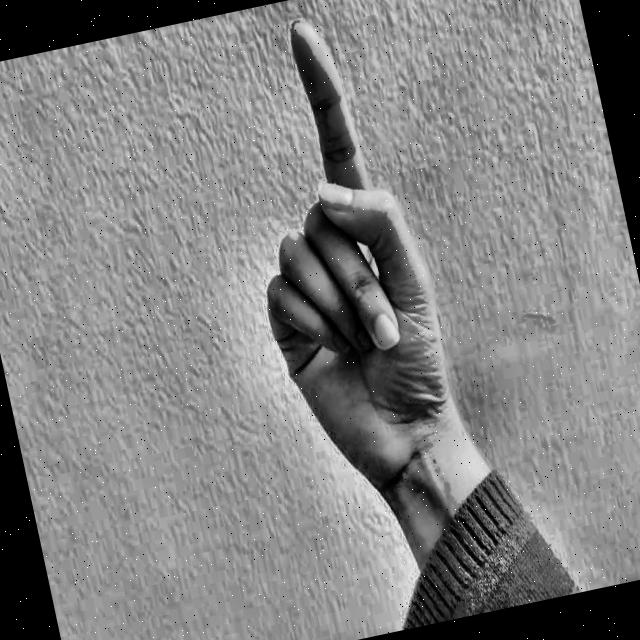U: (185, 0, 499, 505)
